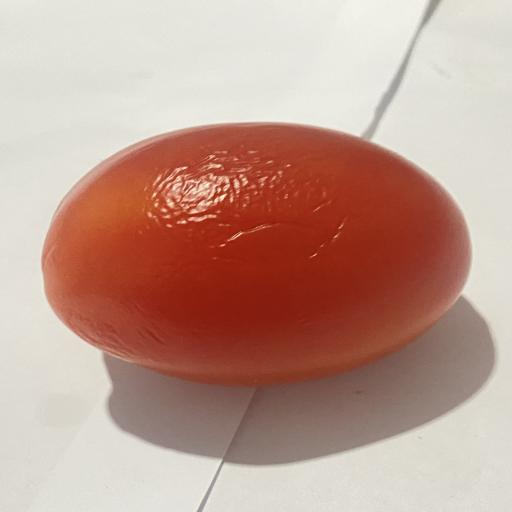spoiled: (42, 123, 471, 386)
